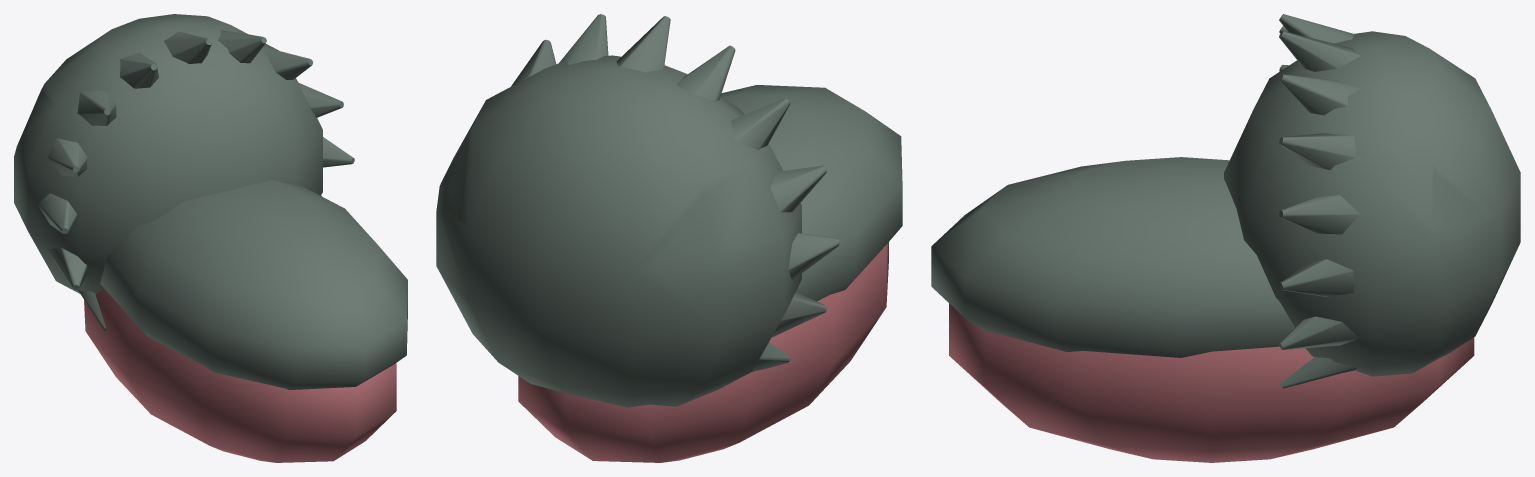
Rendered from chimera_a_body.obj.
The picture shows the model from 3 angles, left to right: view 1: azimuth 30°, elevation 25°; view 2: azimuth 150°, elevation 25°; view 3: azimuth 270°, elevation 25°; orthographic projection. The views are drawn at different scales.
Visible parts, largest first — view 1: source_component_001, source_component_002, source_component_000, source_component_009, source_component_010, source_component_007, source_component_008, source_component_006, source_component_011, source_component_005, source_component_012, source_component_004 (+1 smaller); view 2: source_component_002, source_component_000, source_component_001, source_component_009, source_component_007, source_component_008, source_component_010, source_component_011, source_component_006, source_component_012, source_component_005, source_component_013; view 3: source_component_002, source_component_001, source_component_000, source_component_004, source_component_005, source_component_003, source_component_006, source_component_007, source_component_018, source_component_017, source_component_008.
Boxes of the visible parts, x1,y1,x2,y2 form: source_component_001: (100,180,407,389); source_component_002: (14,14,322,293); source_component_000: (84,288,396,462); source_component_009: (77,90,116,125); source_component_010: (47,138,87,176); source_component_007: (164,31,211,63); source_component_008: (119,52,158,88); source_component_006: (218,29,266,63); source_component_011: (37,193,76,234); source_component_005: (262,47,313,79); source_component_012: (47,248,87,289); source_component_004: (297,82,343,117); source_component_002: (436,55,801,407); source_component_000: (518,242,888,462); source_component_001: (721,85,902,301); source_component_009: (731,98,790,149); source_component_007: (616,16,670,72); source_component_008: (676,45,735,101); source_component_010: (770,165,826,212); source_component_011: (788,233,839,280); source_component_006: (559,14,608,64); source_component_012: (771,292,826,337); source_component_005: (511,39,556,86); source_component_013: (752,342,790,371); source_component_002: (1224,31,1520,376); source_component_001: (931,157,1294,357); source_component_000: (949,303,1474,462); source_component_004: (1279,195,1359,234); source_component_005: (1279,133,1356,170); source_component_003: (1279,259,1353,296); source_component_006: (1279,74,1360,115); source_component_007: (1279,31,1360,71); source_component_018: (1279,316,1359,349); source_component_017: (1280,357,1356,388); source_component_008: (1279,14,1354,43).
Bounding box in the file's own units: 0.875 × 1.06 × 1.36.
